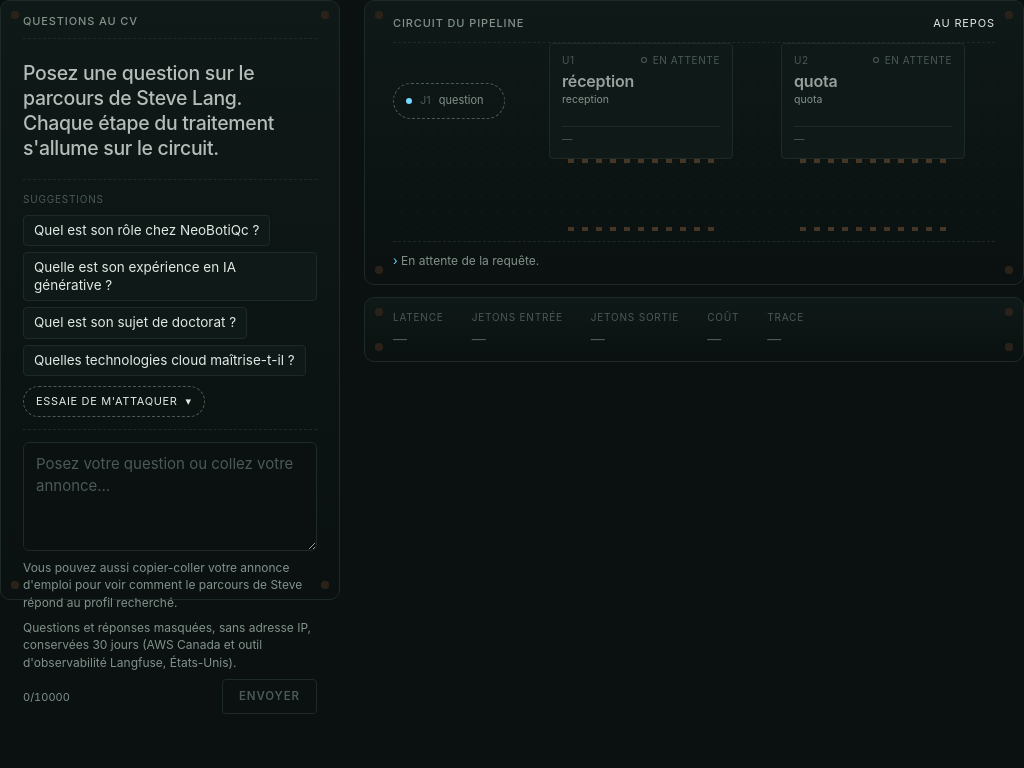
Demo — chargement différé de /api/models › n'appelle /api/models qu'à la première interaction avec la saisie
The width and height of the screenshot is (1024, 768).
Note: Un second focus ne redemande pas les modèles.
Focus the text box named "Votre question ou annonce" at (170, 496), box [23, 442, 317, 551]
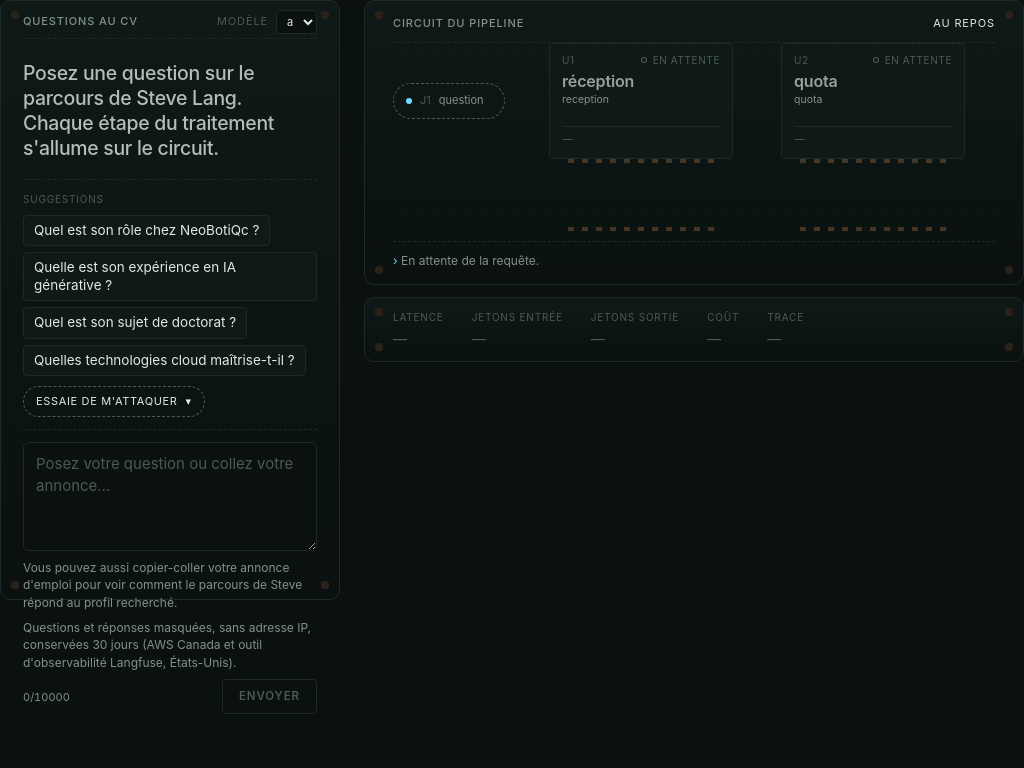
Expected: the dropdown is shown, [276, 10, 317, 34]
